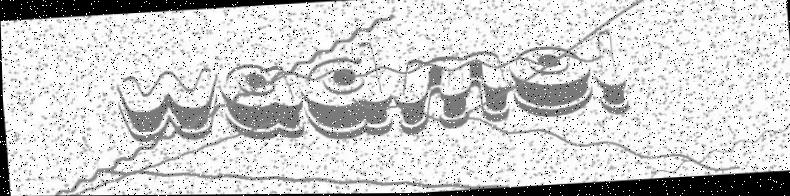a: (216, 61, 304, 140)
d: (297, 42, 392, 140)
l: (591, 30, 628, 116)
m: (390, 50, 513, 136)
o: (508, 45, 593, 119)
w: (115, 67, 220, 142)
